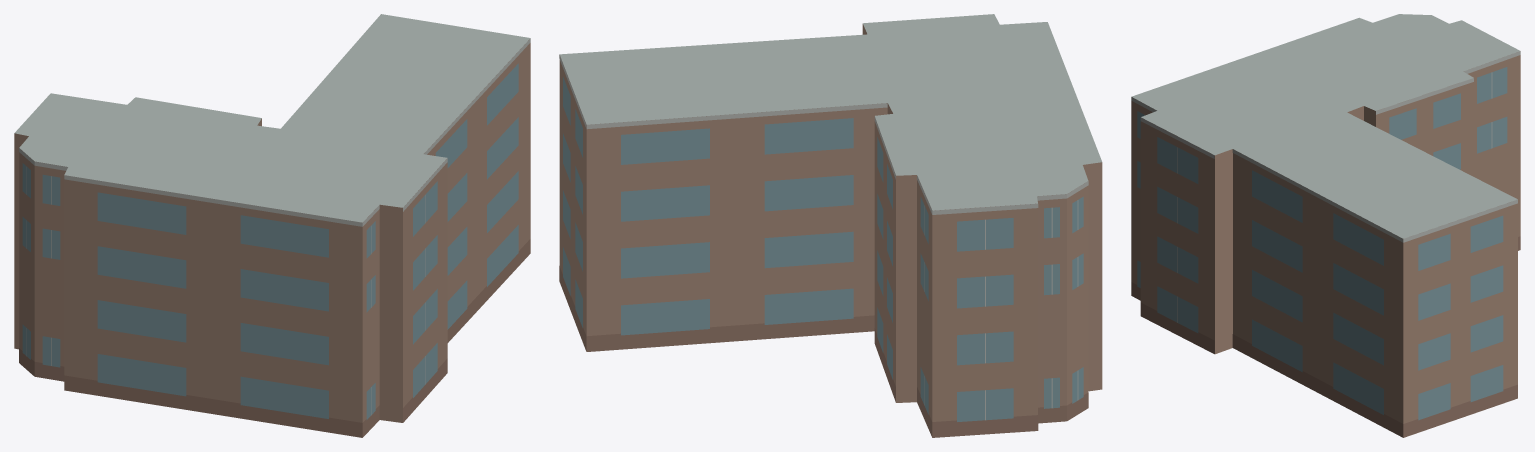
File: survey-upis-32739265.glb
3 renders of one model, left to right at view 1: azimuth 30°, elevation 25°; view 2: azimuth 150°, elevation 25°; view 3: azimuth 270°, elevation 25°, orthographic. The views are drawn at different scales.
Visible parts, largest first — view 1: survey-upis-32739265.tmp; view 2: survey-upis-32739265.tmp; view 3: survey-upis-32739265.tmp.
Boxes of the visible parts, <box> form: survey-upis-32739265.tmp: <box>14,14,530,437</box>; survey-upis-32739265.tmp: <box>559,14,1102,437</box>; survey-upis-32739265.tmp: <box>1131,14,1520,437</box>.
Bounding box in the file's own units: 30.06 × 12.4 × 21.99.
